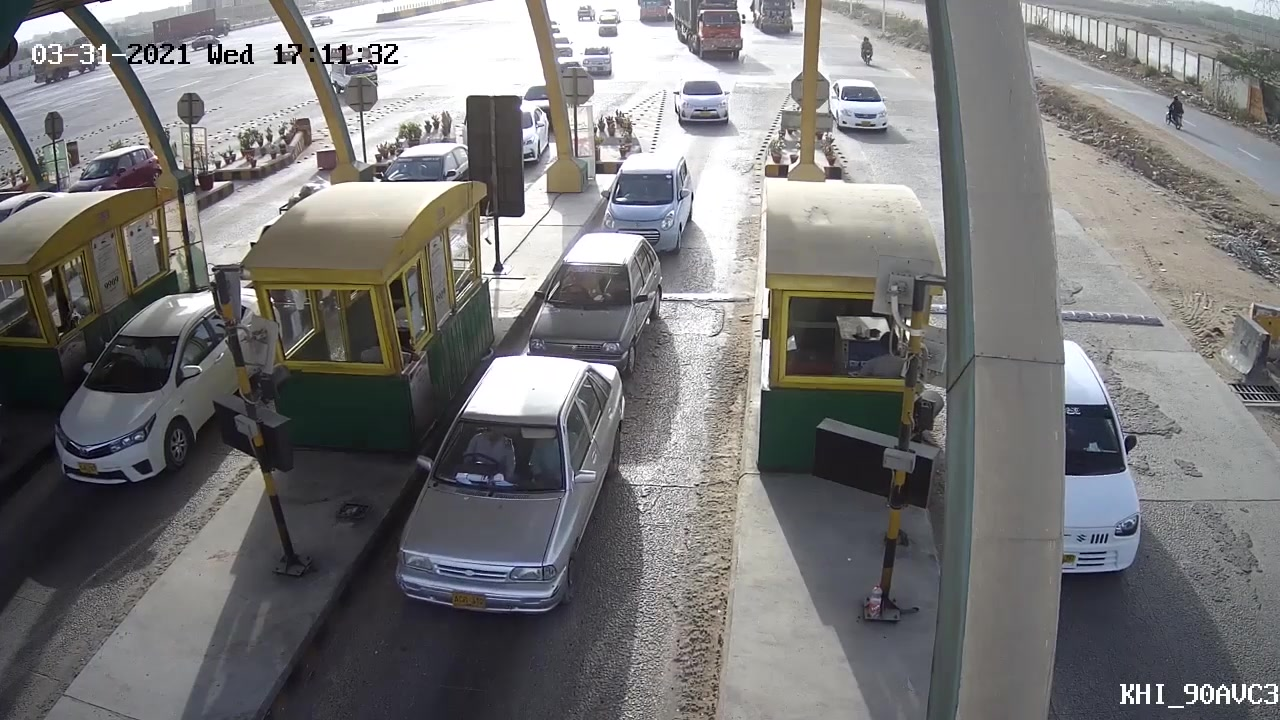F1: (391, 356, 624, 622), (521, 230, 666, 370), (597, 150, 702, 255)
